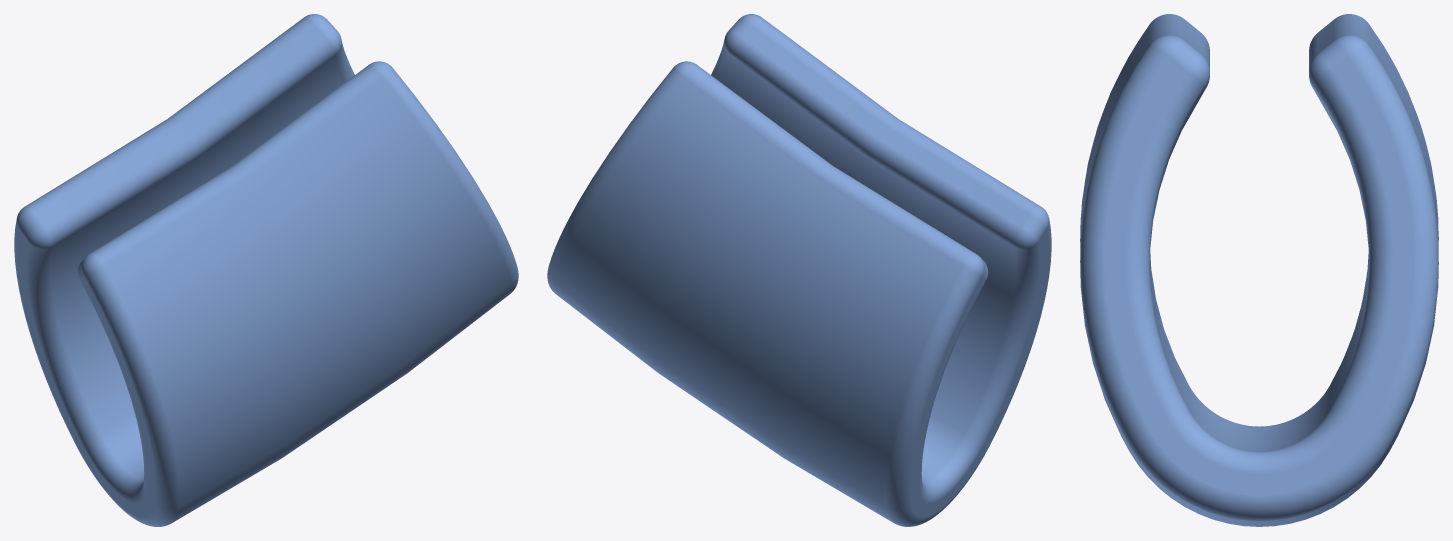
File: _60355K291_Steel_Ball_Bearing_15.gltf
3 renders of one model, left to right at view 1: azimuth 30°, elevation 25°; view 2: azimuth 150°, elevation 25°; view 3: azimuth 270°, elevation 25°, orthographic. The views are drawn at different scales.
Visible parts, largest first — view 1: mesh56452, mesh56456, mesh56447, mesh56453, mesh56451, mesh56442, mesh56448, mesh56438, mesh56449, mesh56461, mesh56450, mesh56460 (+2 smaller); view 2: mesh56440, mesh56470, mesh56469, mesh56438, mesh56436, mesh56468, mesh56467, mesh56453, mesh56449, mesh56461, mesh56445, mesh56460 (+2 smaller); view 3: mesh56458, mesh56450, mesh56445, mesh56455, mesh56464, mesh56446, mesh56457, mesh56465, mesh56452, mesh56440, mesh56449, mesh56456 (+9 smaller).
Boxes of the visible parts, x1,y1,x2,y2 form: mesh56452: (103, 77, 511, 506); mesh56456: (50, 55, 344, 433); mesh56447: (44, 37, 335, 246); mesh56453: (91, 65, 381, 265); mesh56451: (84, 266, 179, 508); mesh56442: (36, 26, 323, 226); mesh56448: (25, 242, 101, 443); mesh56438: (26, 18, 313, 214); mesh56449: (173, 282, 512, 522); mesh56461: (17, 229, 155, 517); mesh56450: (382, 68, 517, 281); mesh56460: (81, 434, 146, 503); mesh56440: (554, 77, 962, 506); mesh56470: (721, 55, 1015, 433); mesh56469: (730, 37, 1021, 246); mesh56438: (684, 65, 974, 265); mesh56436: (886, 266, 981, 508); mesh56468: (742, 26, 1029, 226); mesh56467: (964, 241, 1040, 443); mesh56453: (752, 18, 1039, 214); mesh56449: (553, 282, 892, 522); mesh56461: (910, 229, 1048, 517); mesh56445: (548, 68, 683, 281); mesh56460: (919, 434, 984, 503); mesh56458: (1104, 58, 1414, 495); mesh56450: (1080, 45, 1169, 445); mesh56445: (1349, 45, 1438, 445); mesh56455: (1313, 71, 1393, 421); mesh56464: (1125, 71, 1205, 421); mesh56446: (1129, 432, 1389, 521); mesh56457: (1169, 411, 1349, 474); mesh56465: (1190, 387, 1328, 451); mesh56452: (1080, 25, 1149, 451); mesh56440: (1369, 25, 1438, 451); mesh56449: (1129, 447, 1389, 526); mesh56456: (1313, 87, 1369, 411).
Size of the model in its own units: 0.00292 by 0.0027 by 0.00147.
